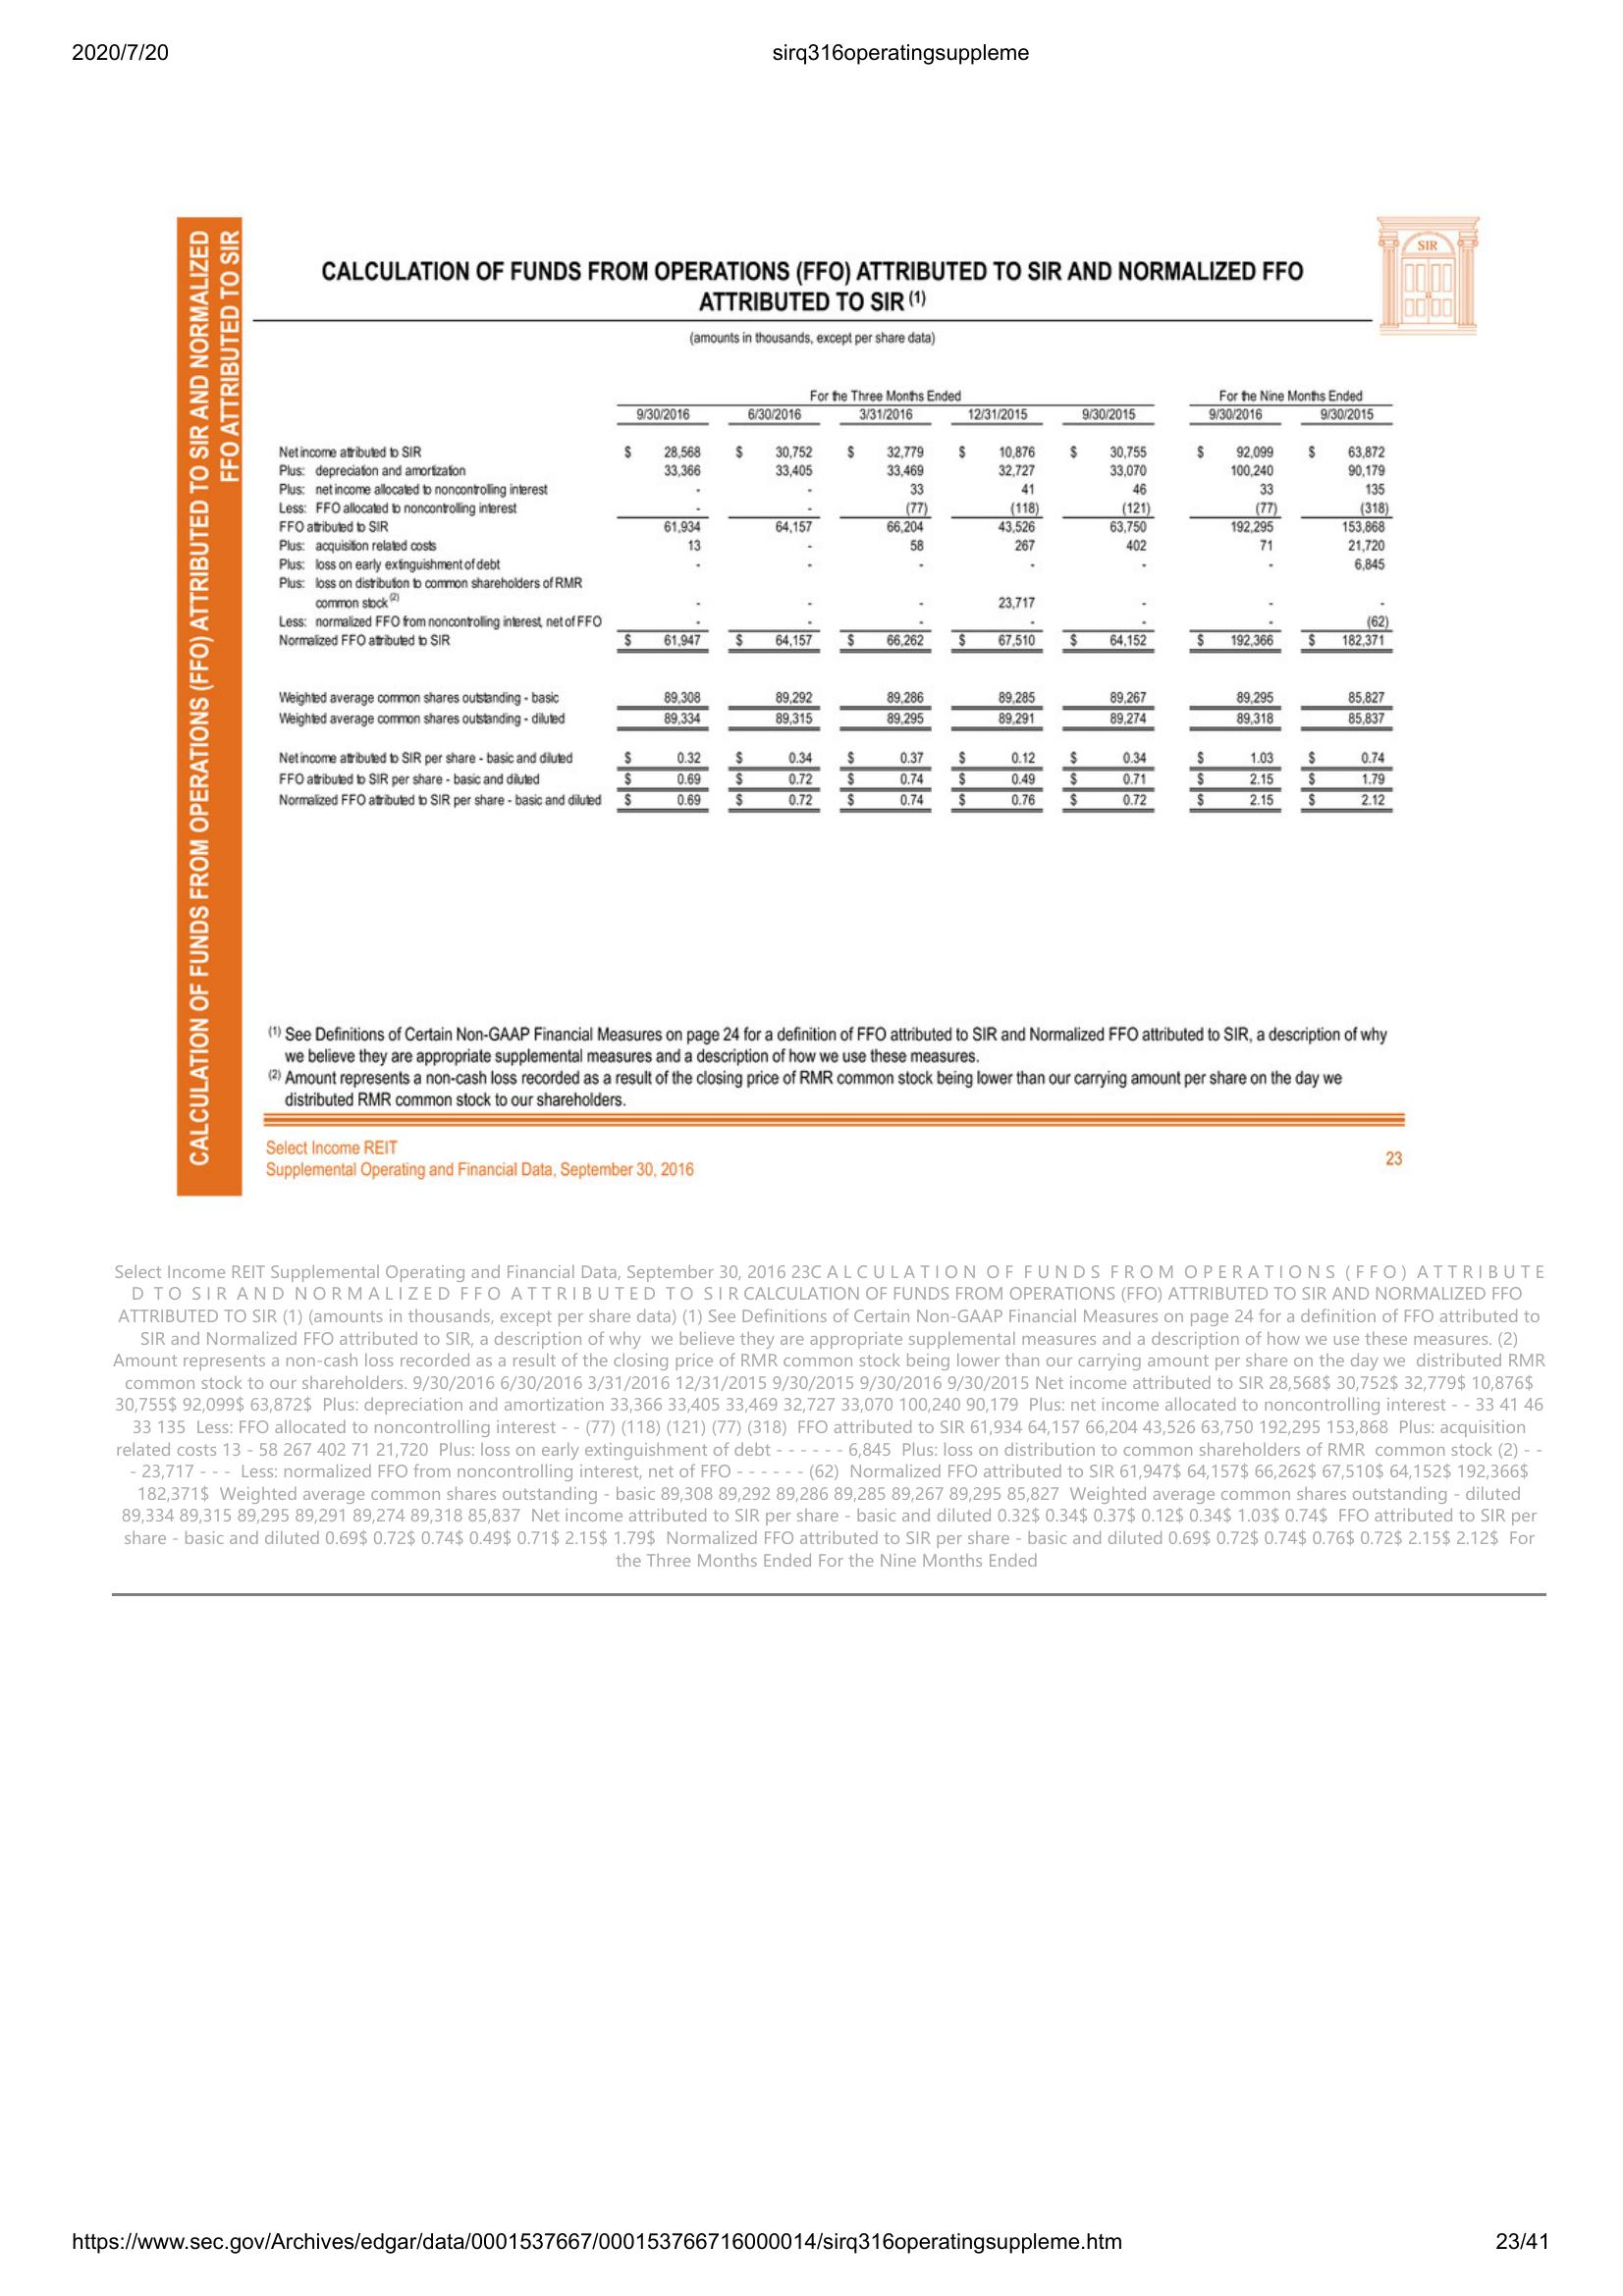table: (263, 377, 1403, 822)
